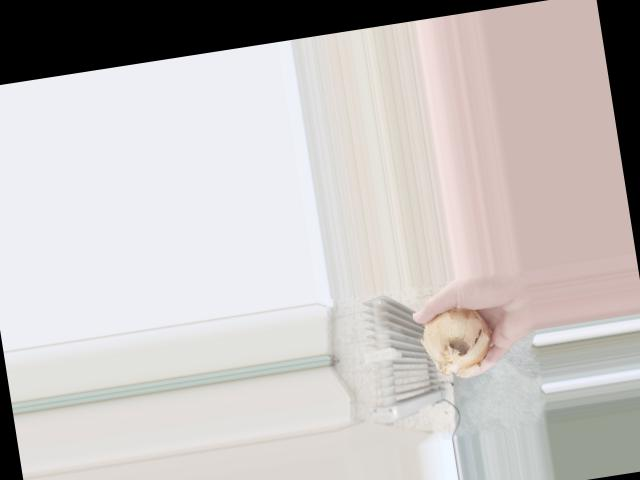onion: (416, 299, 506, 374)
